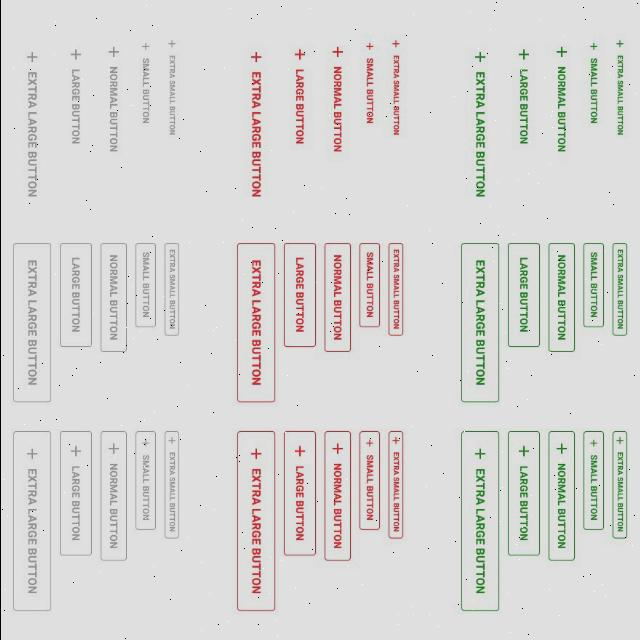QLabel: (474, 465, 486, 597), (474, 257, 486, 388), (474, 68, 486, 196), (249, 468, 261, 596), (250, 259, 262, 386), (25, 72, 37, 198), (250, 70, 260, 198), (26, 260, 36, 386), (26, 469, 36, 595), (106, 66, 118, 154), (331, 66, 342, 152), (556, 250, 566, 342), (556, 458, 566, 550), (332, 255, 342, 341), (332, 463, 342, 549), (518, 255, 528, 335), (518, 462, 528, 542), (109, 255, 118, 342), (294, 67, 304, 145), (109, 463, 118, 549), (518, 68, 528, 144), (70, 68, 80, 144), (294, 257, 304, 333), (294, 466, 304, 542), (70, 257, 80, 333), (557, 63, 565, 151), (616, 246, 624, 332), (616, 448, 624, 532), (364, 58, 374, 124), (140, 58, 150, 124), (392, 54, 400, 136), (167, 54, 175, 136), (71, 465, 79, 541), (589, 248, 597, 322), (168, 248, 175, 329), (589, 452, 597, 522), (168, 452, 175, 532), (365, 252, 373, 318), (365, 455, 373, 521), (141, 252, 149, 318), (141, 454, 149, 520), (616, 55, 622, 135), (392, 249, 398, 329), (392, 452, 398, 532), (590, 56, 596, 126)
VBtn: (460, 431, 500, 611), (11, 431, 51, 611), (236, 432, 274, 612), (235, 242, 275, 403), (459, 242, 498, 403), (13, 242, 52, 403), (506, 431, 540, 557), (282, 431, 316, 557), (92, 492, 126, 616), (547, 431, 575, 562), (99, 431, 127, 561), (323, 432, 351, 562), (506, 242, 540, 348), (58, 242, 92, 348), (282, 243, 316, 347), (547, 243, 575, 353), (99, 243, 127, 353), (324, 243, 351, 353), (582, 431, 604, 531), (134, 431, 156, 531), (358, 431, 379, 531), (582, 242, 604, 328), (134, 244, 156, 328), (358, 242, 379, 328), (611, 430, 627, 540), (387, 430, 403, 540), (163, 430, 179, 540), (611, 243, 627, 337), (387, 243, 403, 337), (163, 243, 179, 337)
VIcon: (556, 47, 566, 57), (518, 50, 528, 60), (474, 52, 484, 62), (518, 446, 528, 456), (556, 444, 566, 454), (474, 449, 484, 459), (332, 47, 342, 57), (108, 47, 118, 57), (70, 50, 80, 60), (250, 52, 260, 62), (294, 49, 304, 59), (26, 52, 36, 62), (70, 446, 80, 456), (108, 444, 118, 454), (332, 443, 342, 453), (294, 446, 304, 456), (26, 449, 36, 459), (250, 449, 260, 459), (615, 40, 623, 48), (616, 436, 622, 444), (168, 436, 174, 444), (590, 439, 596, 446), (168, 41, 174, 48), (392, 41, 398, 48), (142, 42, 148, 49), (141, 439, 147, 446), (366, 439, 372, 446), (590, 43, 596, 49), (366, 44, 372, 50), (392, 438, 398, 444)
